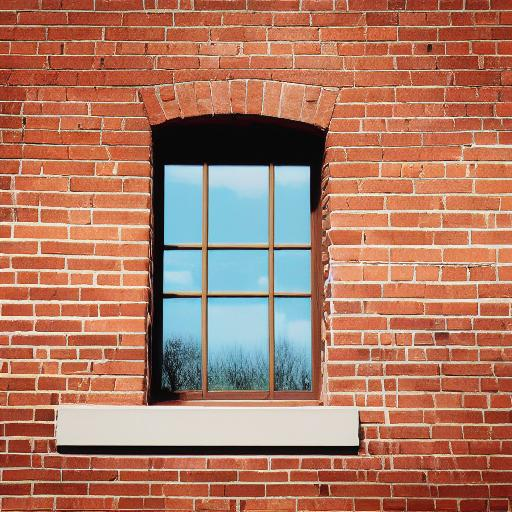Window: (55, 77, 362, 451)
